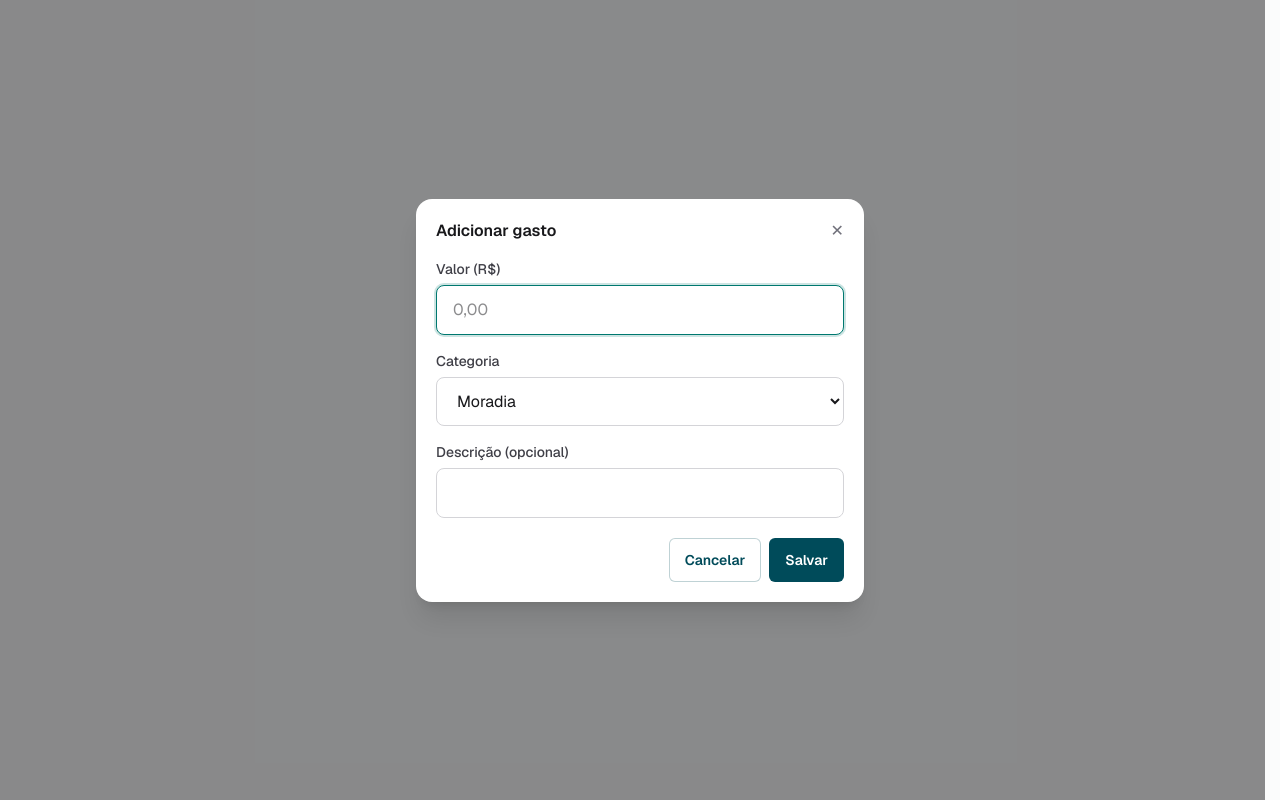
Test: EntryDialog (adicionar gasto rápido) › não envia quando o valor é inválido
Click the button "Salvar" at (807, 560), box [769, 538, 844, 582]
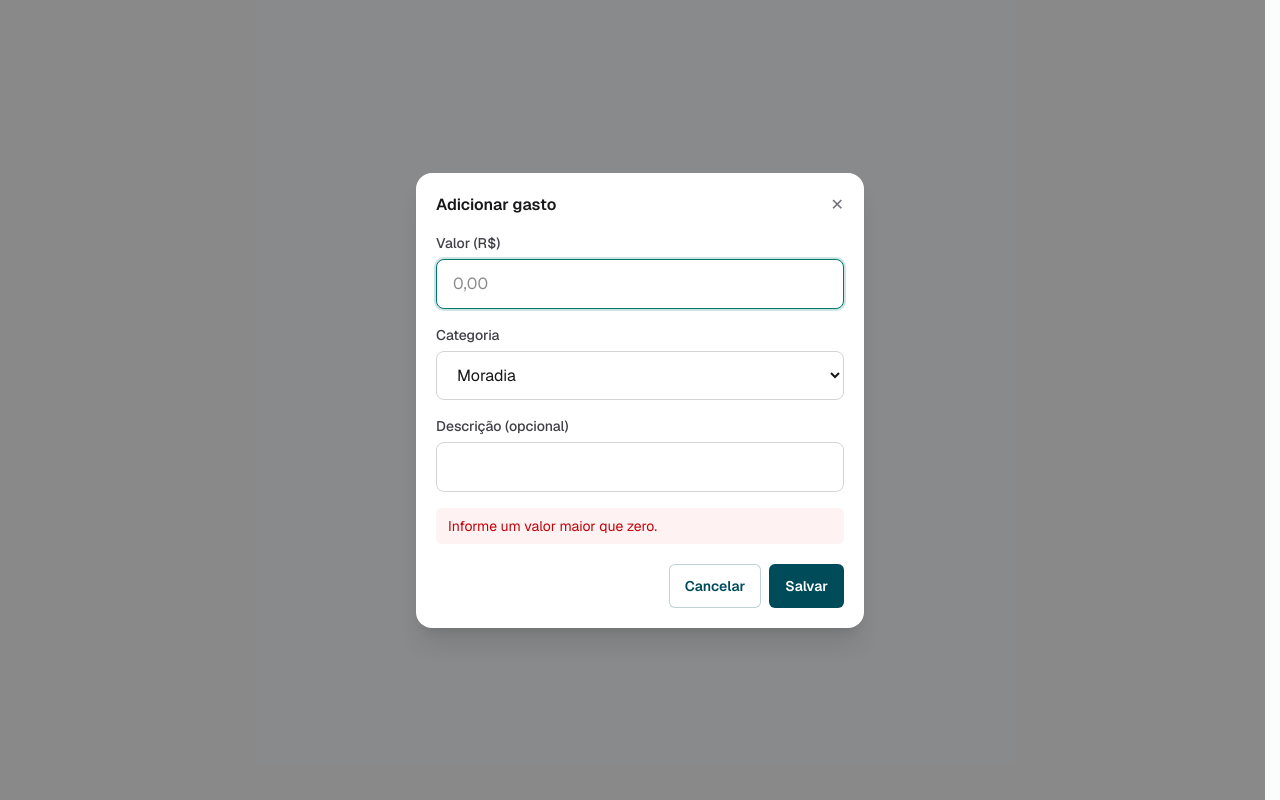
Now the message reads "Informe um valor maior que zero.", box [448, 516, 657, 534]
